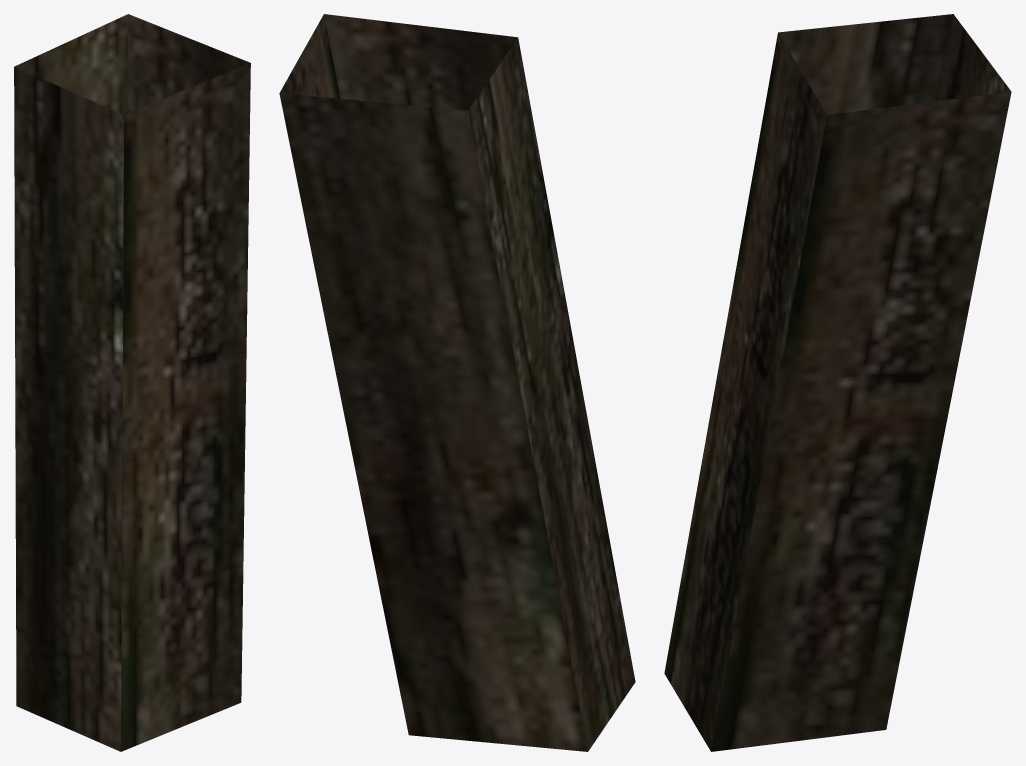
The model's file is BEAM_T.glb.
3 views of the same model, side by side, from view 1: azimuth 30°, elevation 25°; view 2: azimuth 150°, elevation 25°; view 3: azimuth 270°, elevation 25° (orthographic). The views are drawn at different scales.
Visible parts, largest first — view 1: Mesh; view 2: Mesh; view 3: Mesh.
Part boxes in pixels (x1,y1,x2,y2): Mesh: [14, 14, 250, 751]; Mesh: [279, 14, 635, 751]; Mesh: [664, 14, 1011, 751].
Size of the model in its own units: 0.7958 by 1.92 by 0.901.
Materials: 1 (1 with a texture image).
